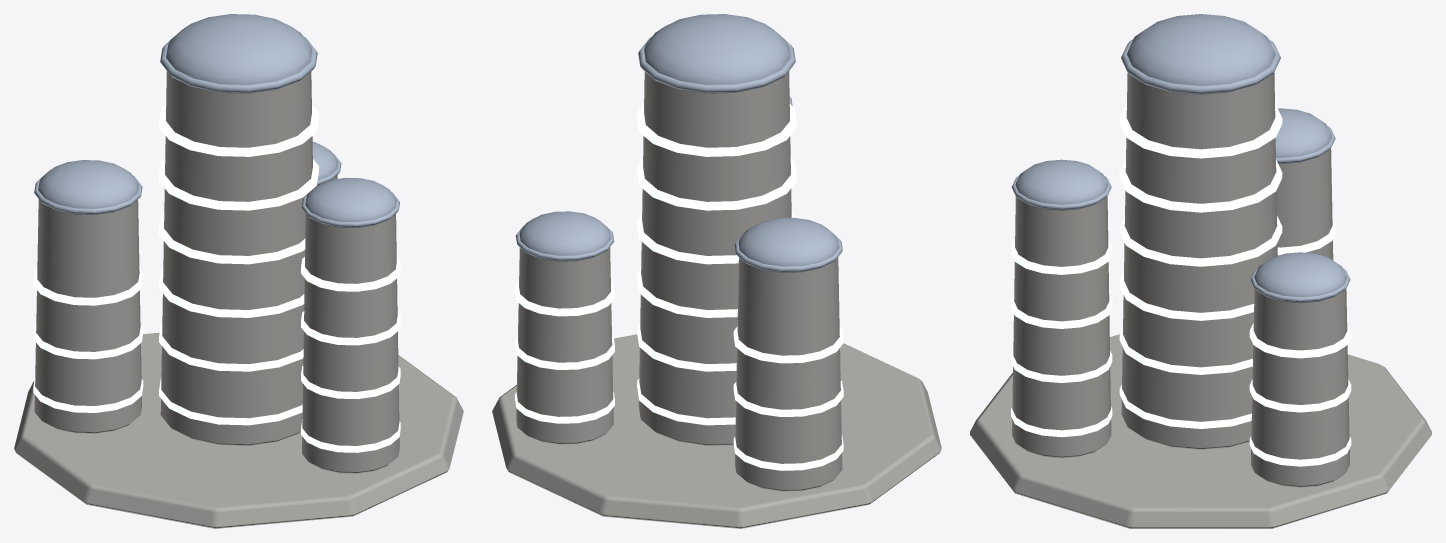
The model's file is habitat.glb.
3 renders of one model, left to right at view 1: azimuth 30°, elevation 25°; view 2: azimuth 150°, elevation 25°; view 3: azimuth 270°, elevation 25°, orthographic.
Visible parts, largest first — view 1: habitat; view 2: habitat; view 3: habitat.
Part boxes in pixels (box(x1,y1,x2,y2)): habitat: box(14, 14, 463, 528); habitat: box(492, 14, 941, 528); habitat: box(970, 14, 1431, 528).
Size of the model in its own units: 0.8875 by 0.9084 by 0.9281.
